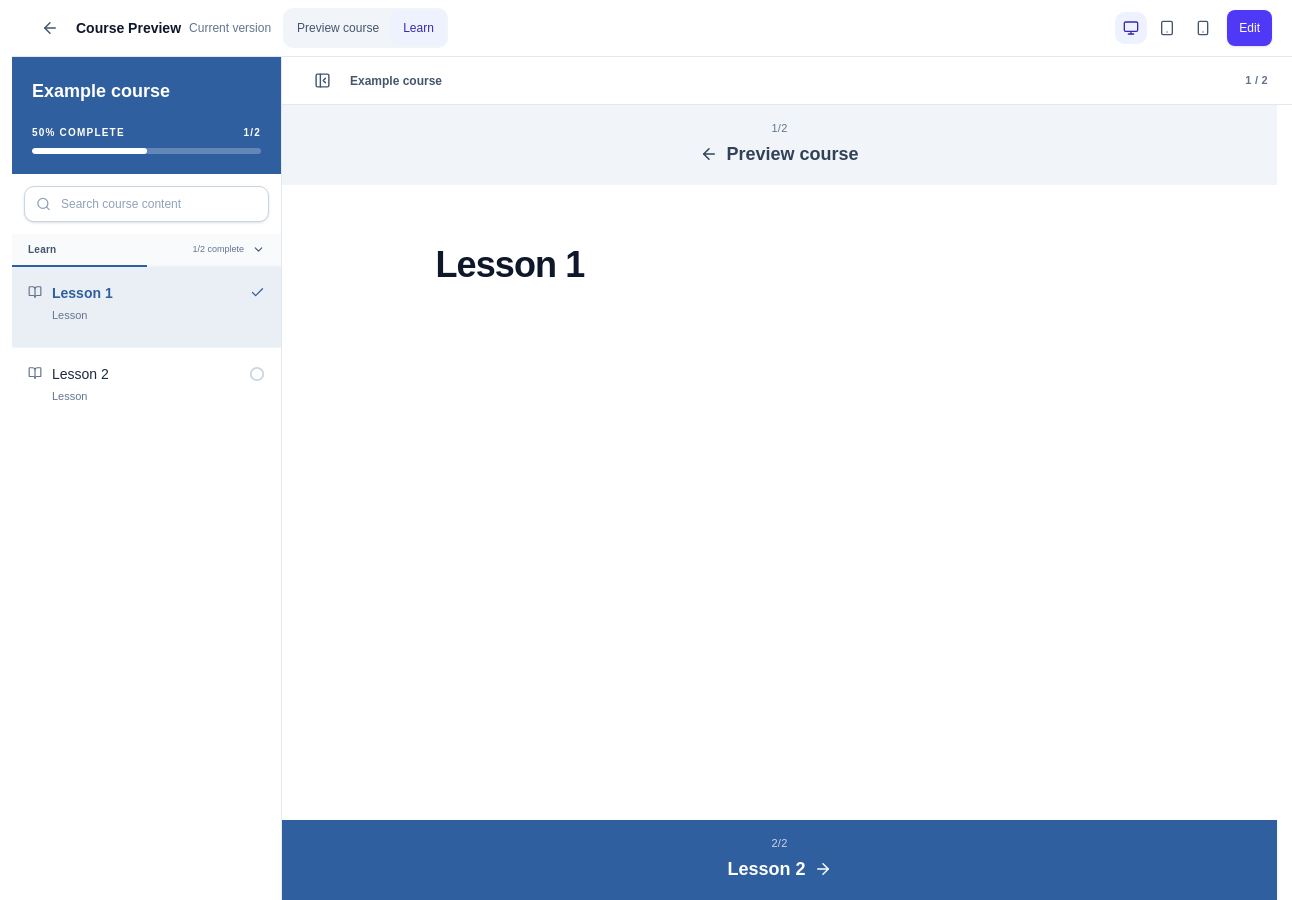
it: preview links to the exact editor block › returns to the course overview from the first lesson's Previous control
Click the button "1/2 Preview course" at (780, 145), box x1=282 y1=105 x2=1277 y2=185
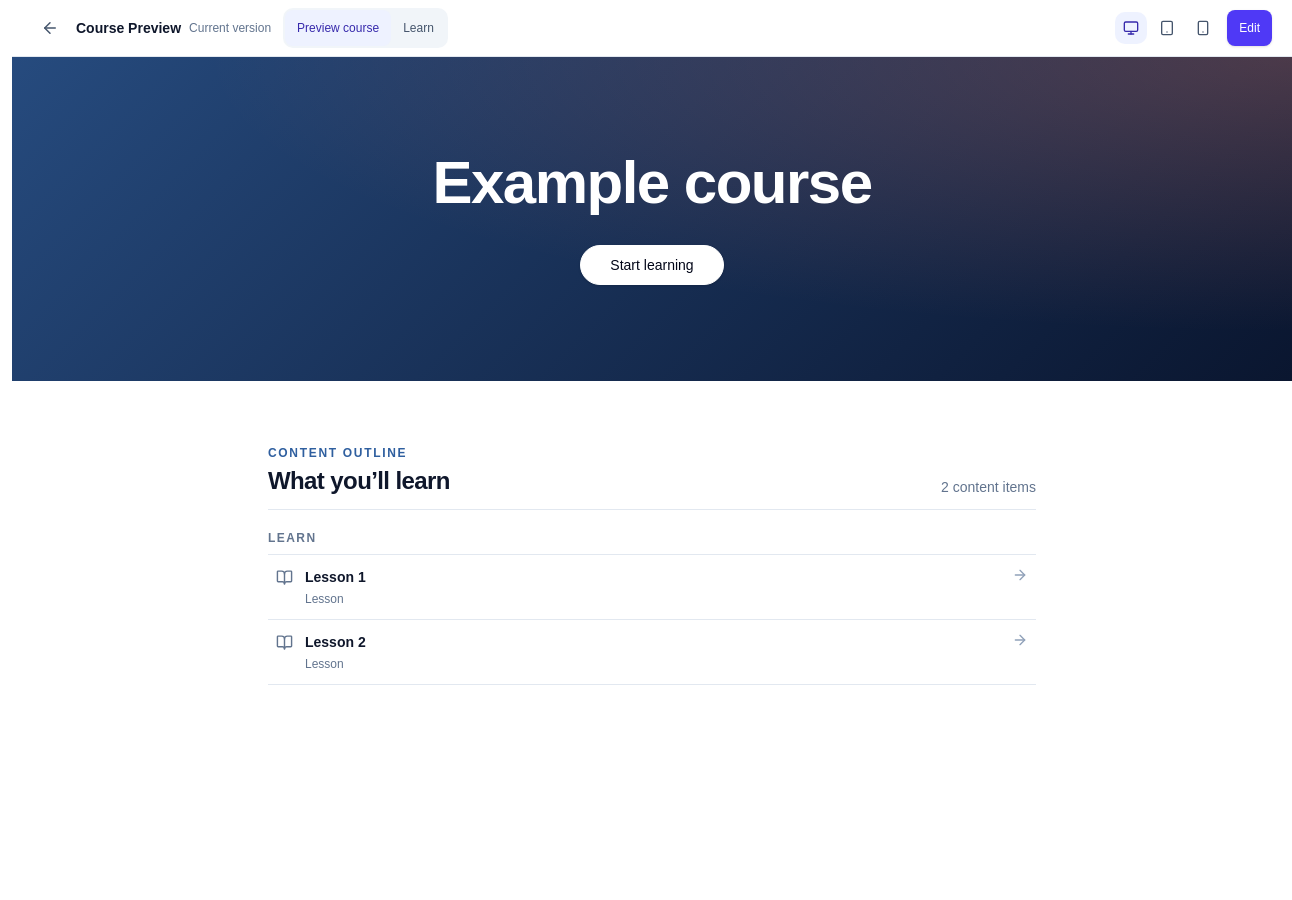
expect the element named "Course cover" is shown: met, box x1=12 y1=57 x2=1291 y2=381
